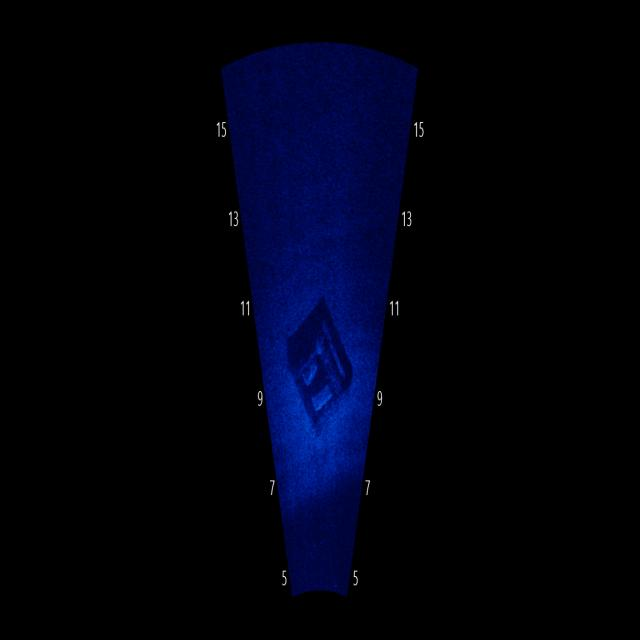square: (280, 288, 354, 437)
